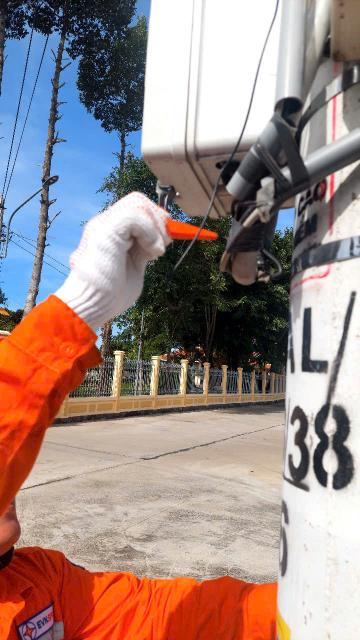gloves: (38, 183, 207, 329)
